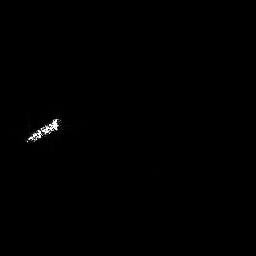ship: (24, 116, 63, 145)
